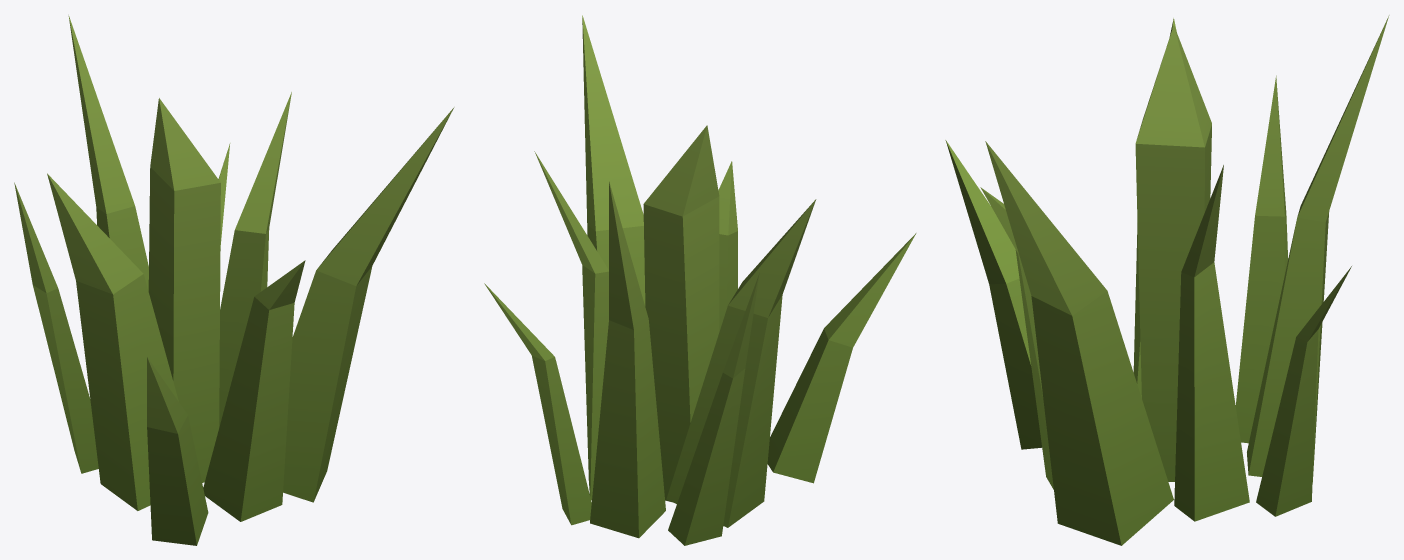
The model's file is Grass_02.fbx.
3 renders of one model, left to right at view 1: azimuth 30°, elevation 25°; view 2: azimuth 150°, elevation 25°; view 3: azimuth 270°, elevation 25°, orthographic. The views are drawn at different scales.
Parts seen in each view (by area): view 1: Grass_02; view 2: Grass_02; view 3: Grass_02.
Part boxes in pixels (left/top/right/bottom): Grass_02: left=14, top=15, right=454, bottom=545; Grass_02: left=484, top=15, right=916, bottom=545; Grass_02: left=945, top=15, right=1389, bottom=545.
Size of the model in its own units: 0.3843 by 0.4565 by 0.4032.
